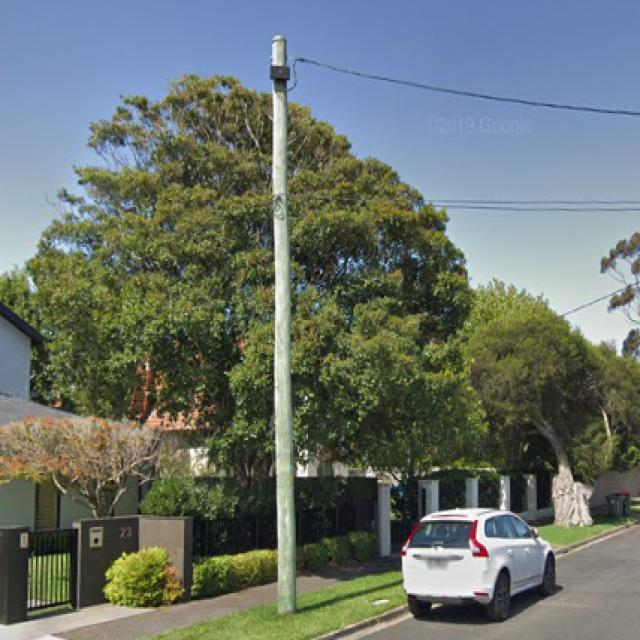timber-pole: (268, 36, 298, 615)
